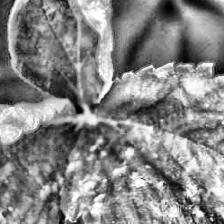Powdery Mildew Leaf: (57, 60, 224, 224), (7, 0, 114, 112), (0, 97, 88, 224)
